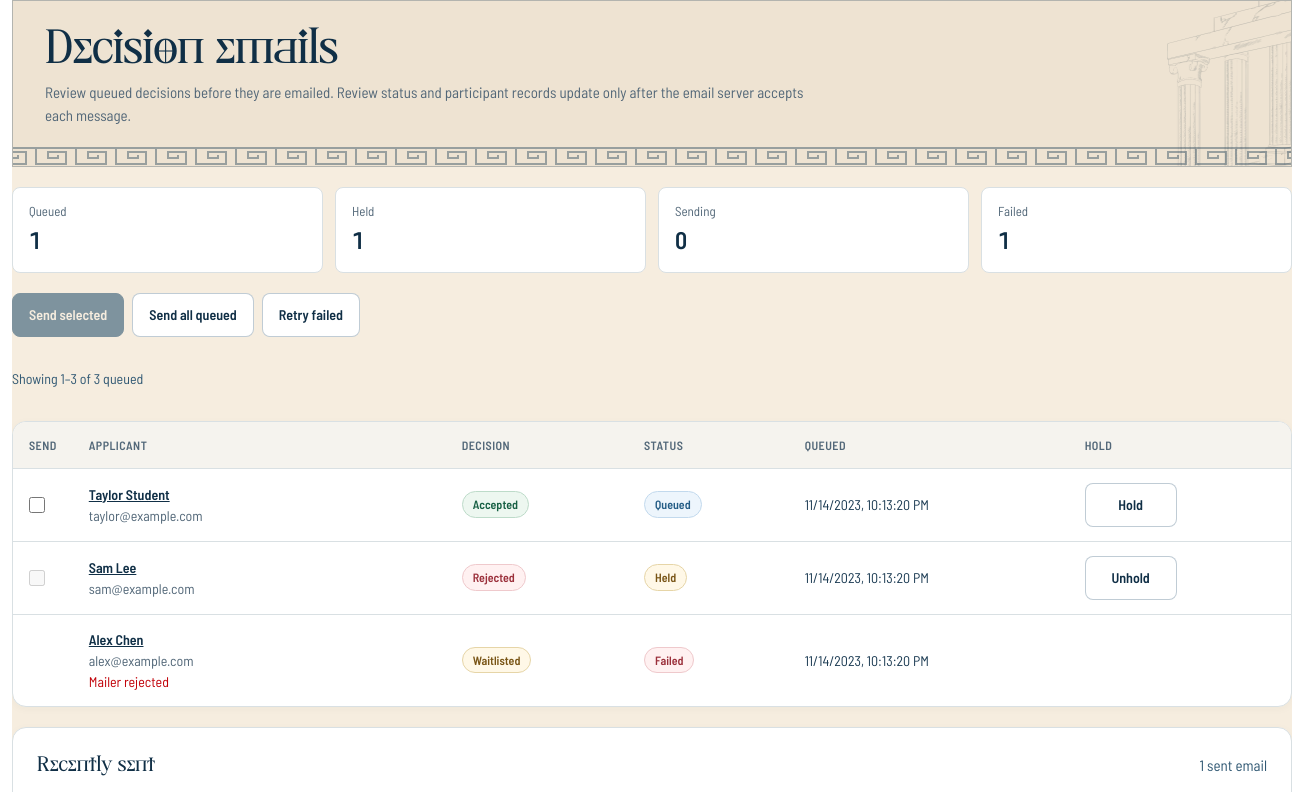
Scenario: DecisionEmailQueuePage › sends selected rows and shows a success notice
Click the checkbox named "Select Taylor Student".
click(37, 504)  # box [29,496,45,512]
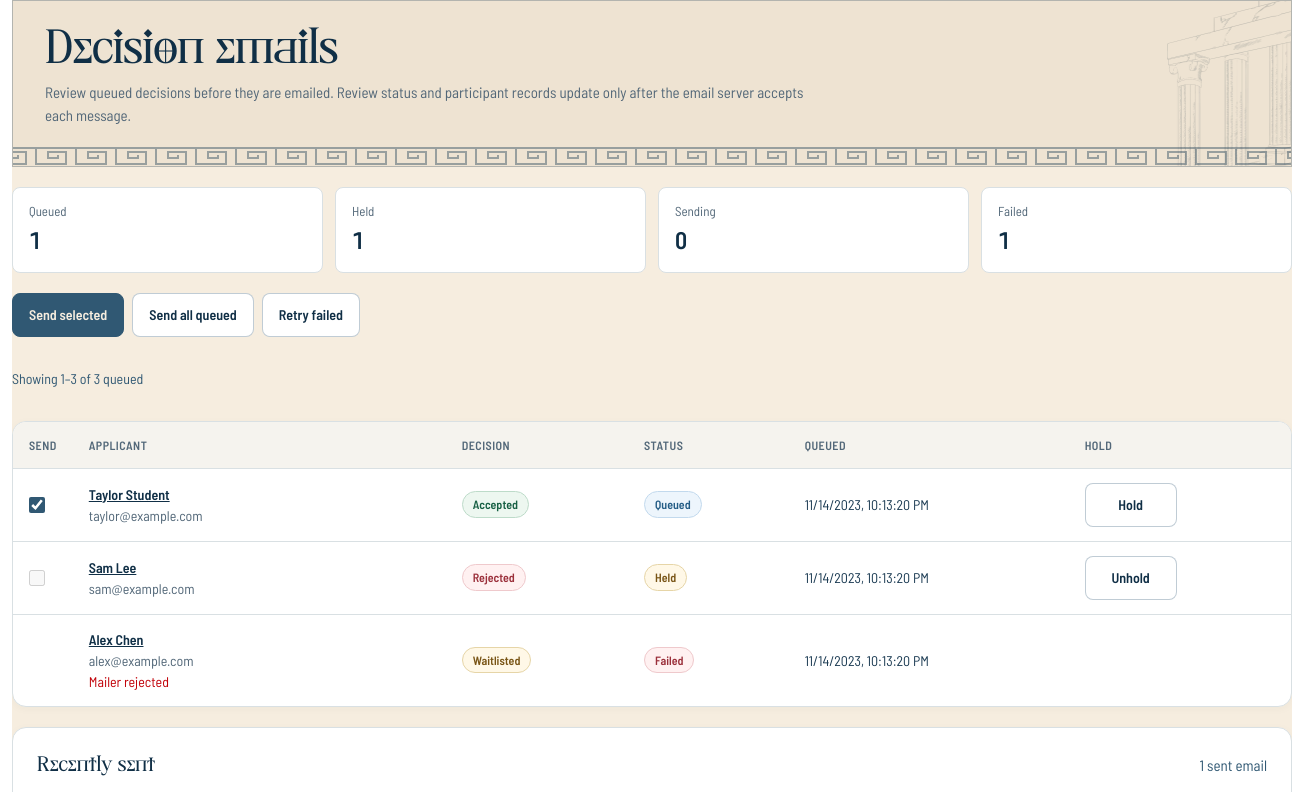
Click the button "Send selected".
click(68, 314)  # box [12,292,124,336]
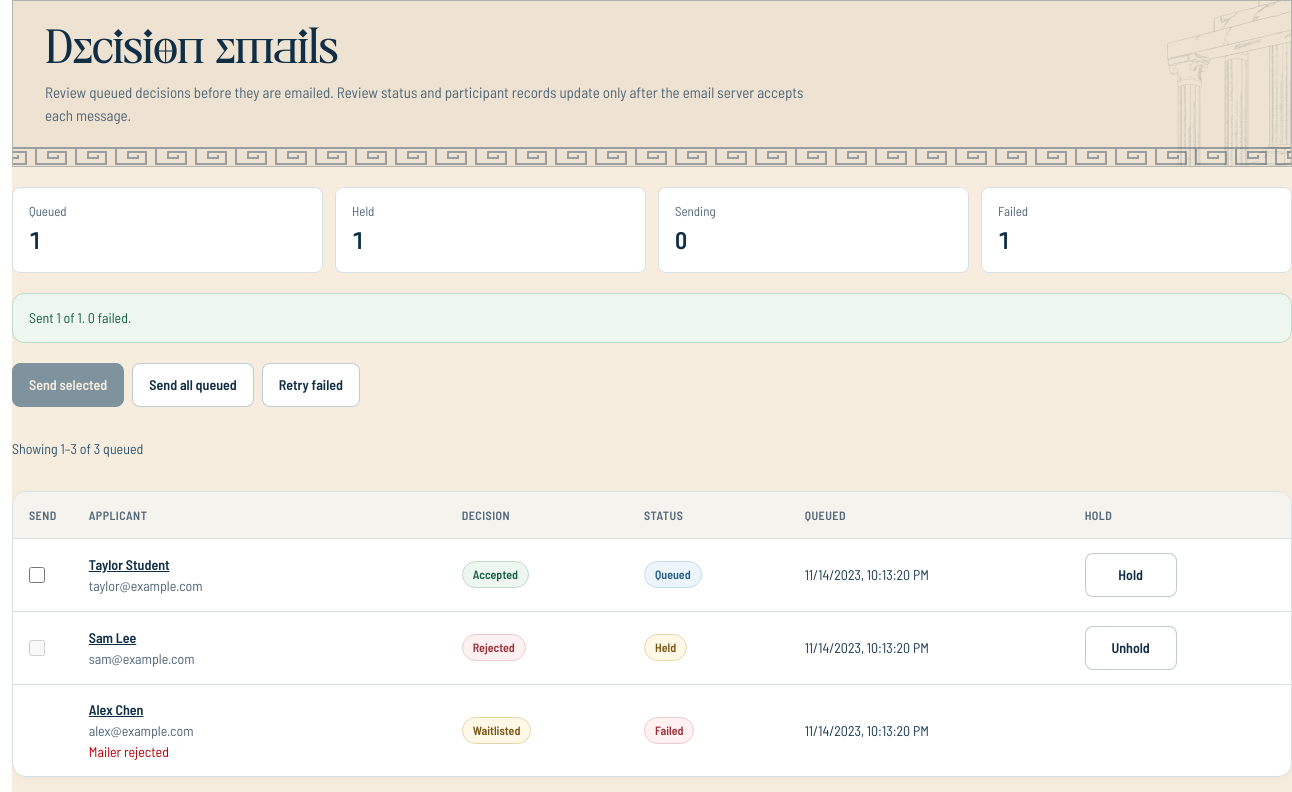
Expected: the text "Sent 1 of 1" is shown, [29,309,131,326]
